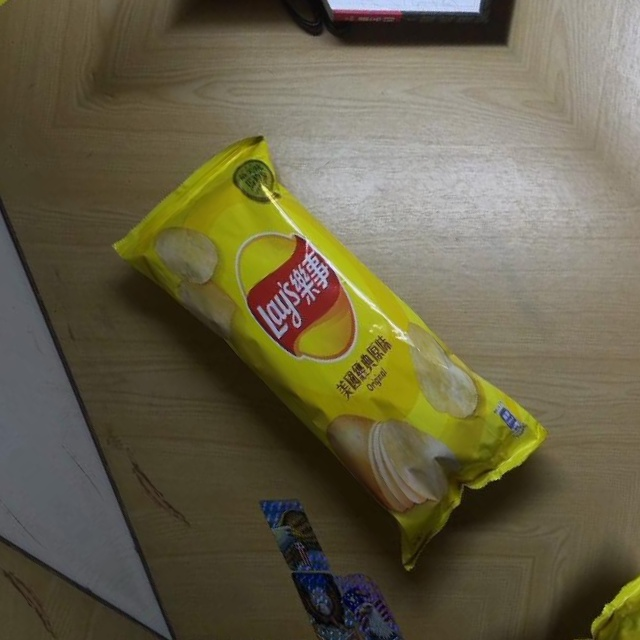Lay-s-original: (105, 99, 562, 585)
